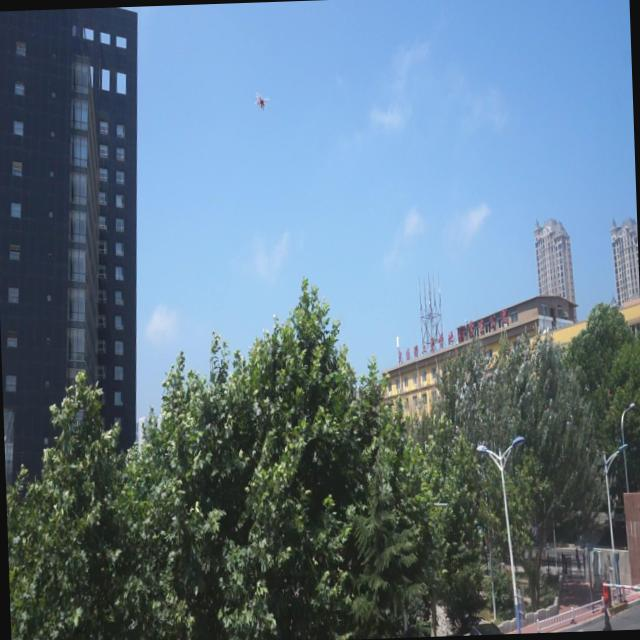drone: (252, 88, 272, 118)
